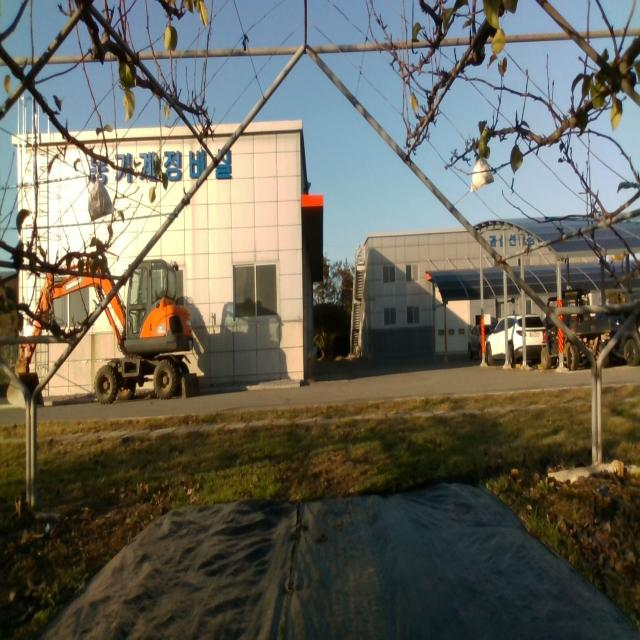pearbags: (86, 172, 114, 222), (470, 156, 494, 197)
